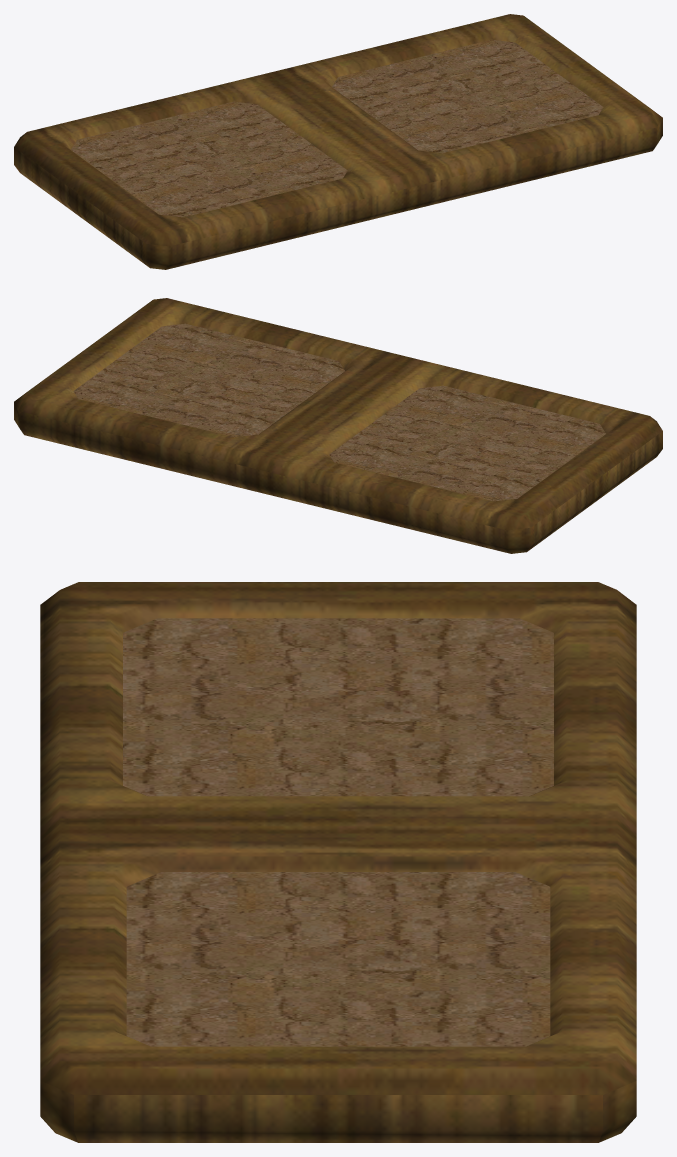
Rendered from SunBeachSeesawPart.fbx.
3 views of the same model, one above another, from view 1: azimuth 30°, elevation 25°; view 2: azimuth 150°, elevation 25°; view 3: azimuth 270°, elevation 25° (orthographic). The views are drawn at different scales.
Parts seen in each view (by area): view 1: Plane, Plane.001; view 2: Plane, Plane.001; view 3: Plane, Plane.001.
Part boxes in pixels (<box>): Plane: <box>14,14,662,269</box>; Plane.001: <box>71,39,603,217</box>; Plane: <box>14,298,662,553</box>; Plane.001: <box>73,323,605,501</box>; Plane: <box>40,582,636,1142</box>; Plane.001: <box>123,618,553,1046</box>.
Size of the model in its own units: 104010 by 6702 by 52000.
2 materials, 2 textured.
